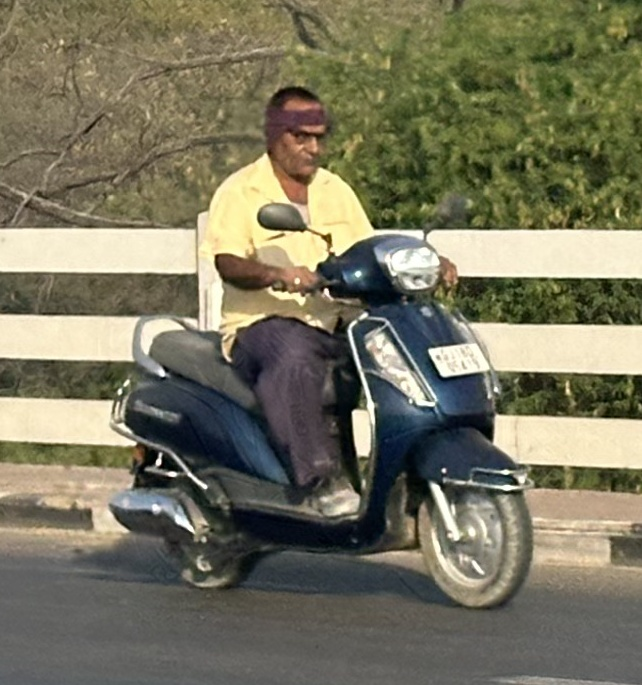BikeWithRider: (95, 75, 546, 617)
NoHelmet: (245, 78, 345, 186)
